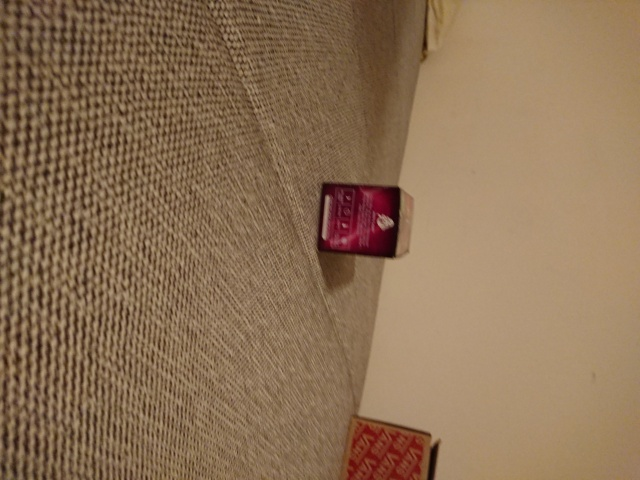Franck Black Currant Tea 60g: (313, 180, 417, 261)
